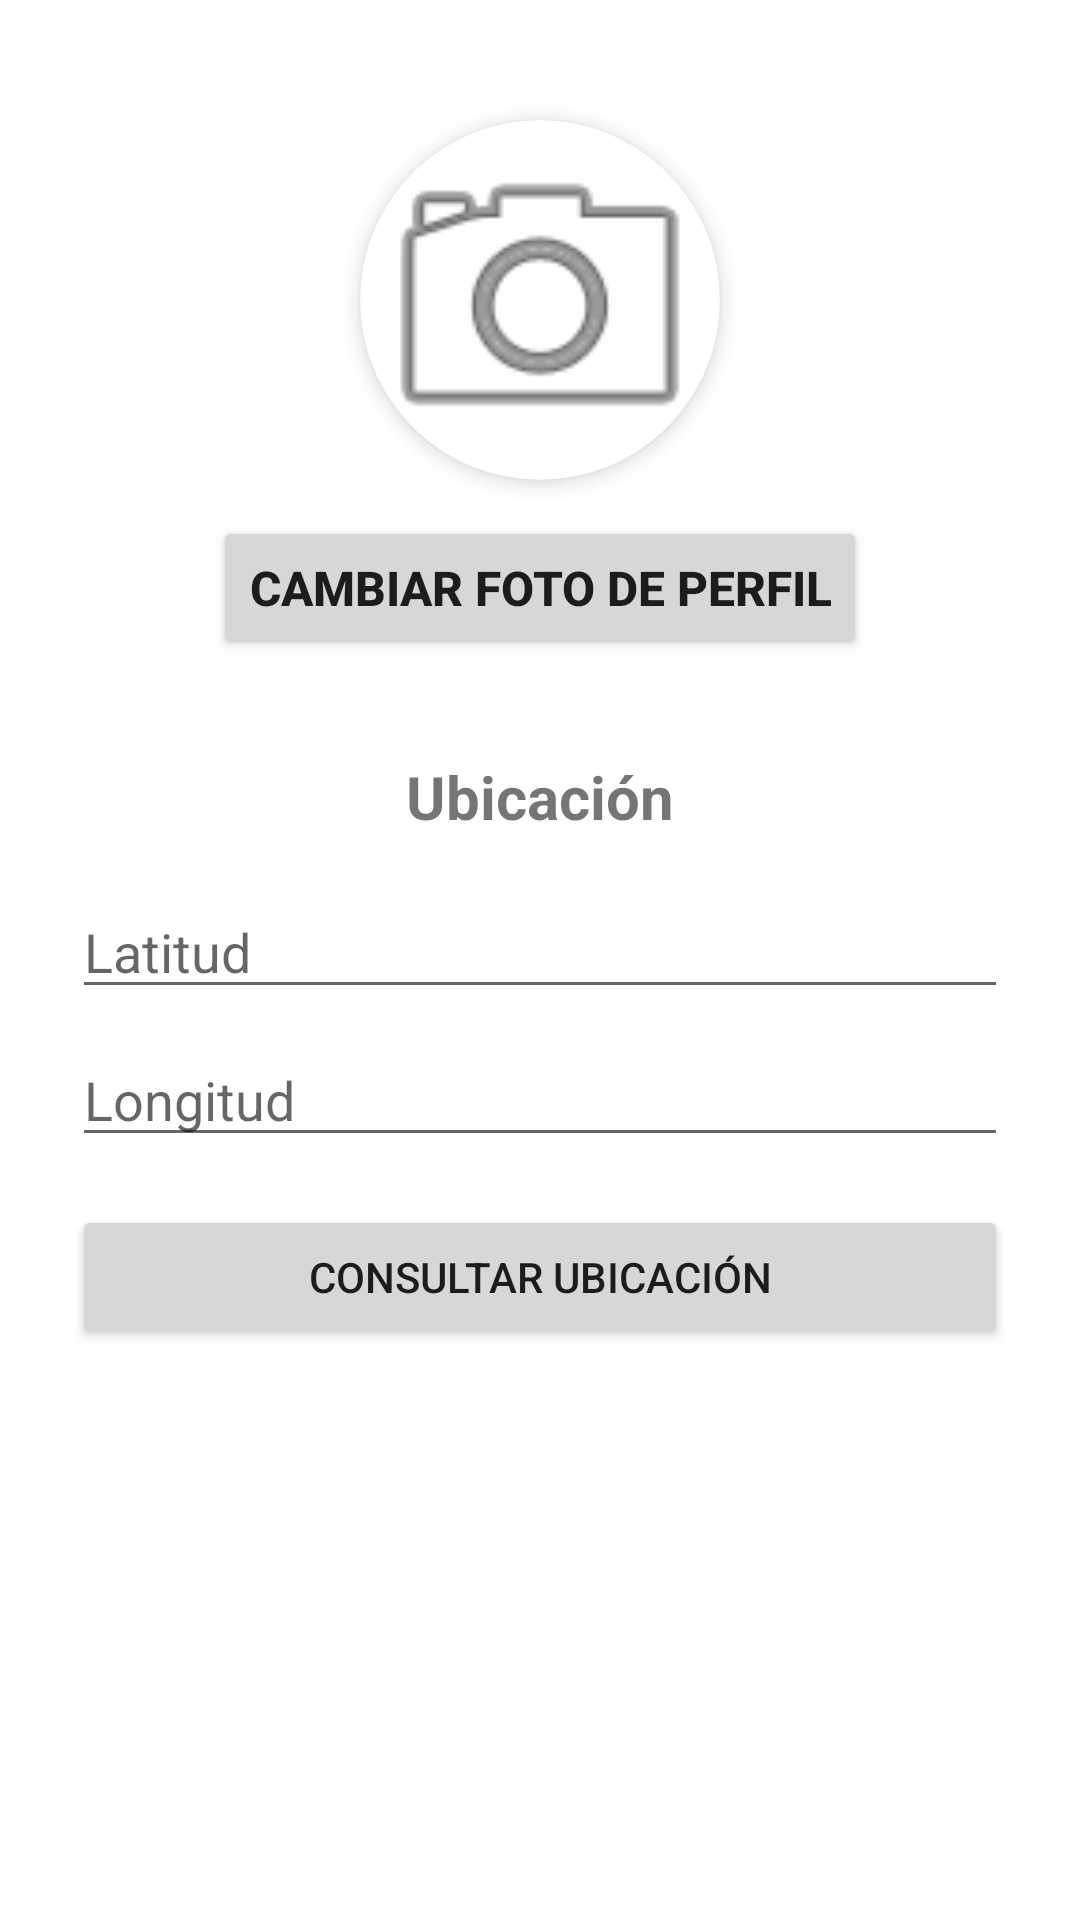

Icons on this 1080px x 1920px Android screen, each with the point to tap as point (x, y):
camera: point (543, 331)
